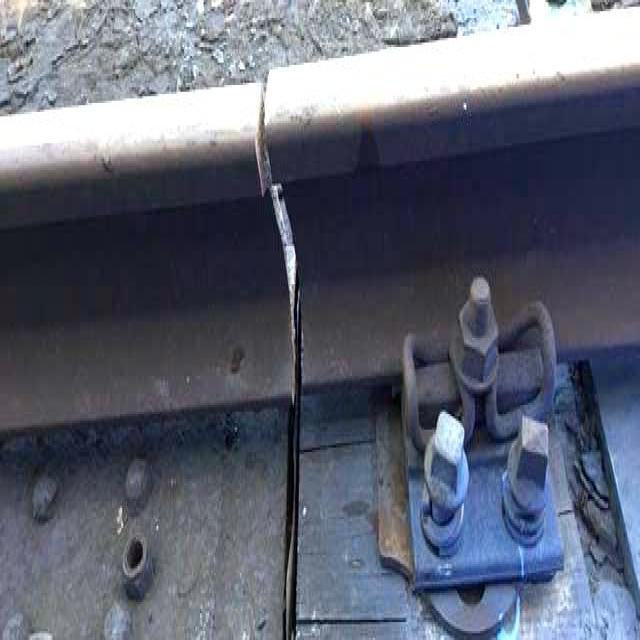Good Fasteners: (362, 249, 590, 638)
